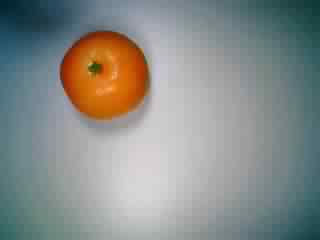orange: (58, 24, 155, 118)
